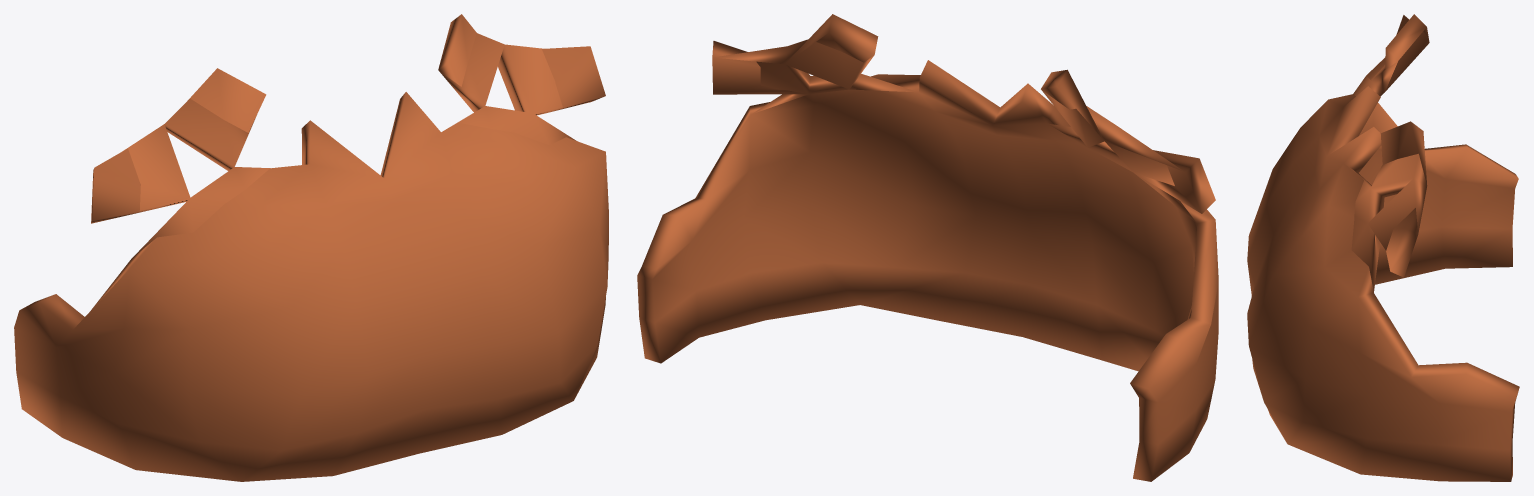
File: Armor_Breastplate.fbx
The picture shows the model from 3 angles, left to right: view 1: azimuth 30°, elevation 25°; view 2: azimuth 150°, elevation 25°; view 3: azimuth 270°, elevation 25°; orthographic projection. The views are drawn at different scales.
Visible parts, largest first — view 1: Armor_Breastplate; view 2: Armor_Breastplate; view 3: Armor_Breastplate.
Boxes of the visible parts, box(x1,y1,x2,y2) form: Armor_Breastplate: box(14, 14, 608, 481); Armor_Breastplate: box(637, 14, 1218, 481); Armor_Breastplate: box(1247, 14, 1519, 481).
Bounding box in the file's own units: 0.2087 × 0.1342 × 0.1049.
